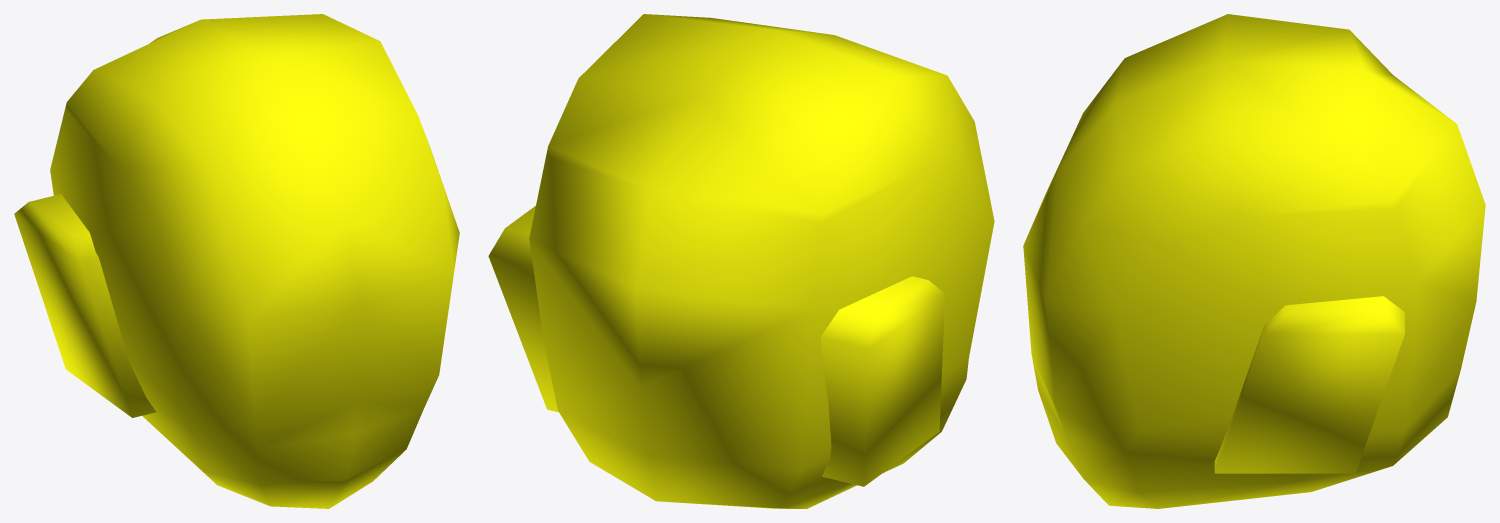
Rendered from Cosmetic11Model.glb.
3 views of the same model, side by side, from view 1: azimuth 30°, elevation 25°; view 2: azimuth 150°, elevation 25°; view 3: azimuth 270°, elevation 25° (orthographic). The views are drawn at different scales.
Parts seen in each view (by area): view 1: Cosmetic11Model; view 2: Cosmetic11Model; view 3: Cosmetic11Model.
Boxes of the visible parts, bbox=[...] form: Cosmetic11Model: bbox=[14, 14, 459, 508]; Cosmetic11Model: bbox=[488, 14, 994, 508]; Cosmetic11Model: bbox=[1023, 14, 1485, 508].
Bounding box in the file's own units: 0.2301 × 0.2653 × 0.2593.
Materials: 1 (1 with a texture image).
